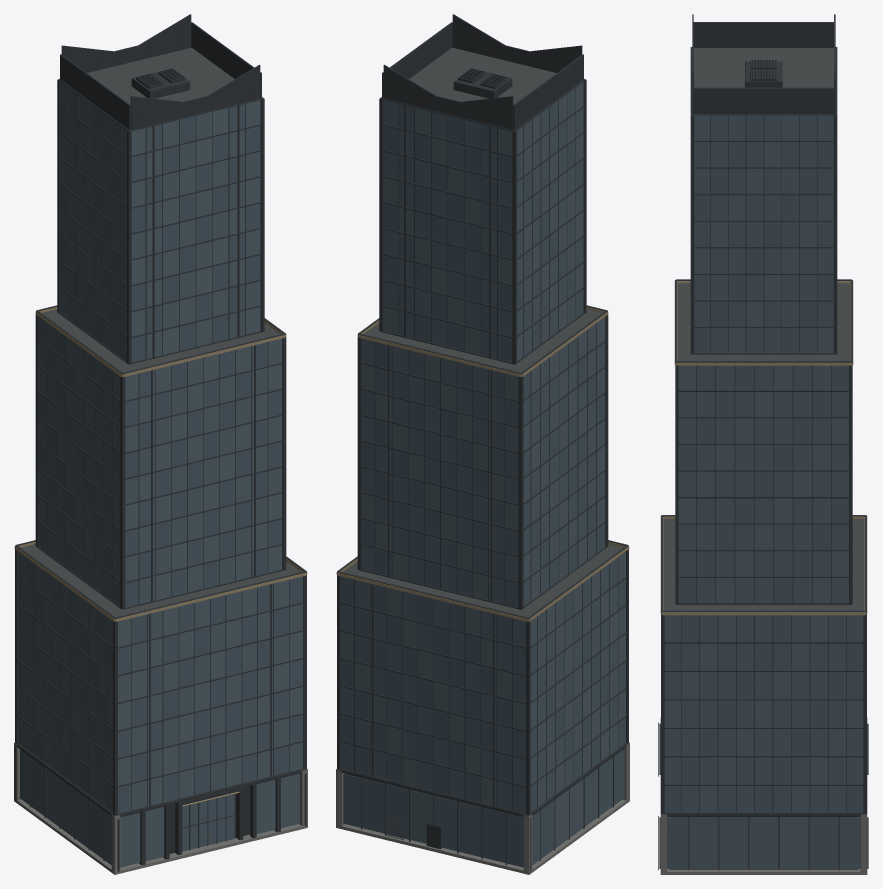
The model's file is skyline_tower.glb.
3 views of the same model, side by side, from view 1: azimuth 30°, elevation 25°; view 2: azimuth 150°, elevation 25°; view 3: azimuth 270°, elevation 25° (orthographic). The views are drawn at different scales.
Visible parts, largest first — view 1: Graphite steel, Coated glazing 2, Coated glazing 1, Coated glazing 0, Coated glazing 3, Coated glazing 4, Roof membrane, Concrete, Warm anodized trim, Interior dark; view 2: Graphite steel, Coated glazing 0, Coated glazing 1, Coated glazing 2, Coated glazing 3, Coated glazing 4, Roof membrane, Concrete, Warm anodized trim; view 3: Graphite steel, Coated glazing 0, Coated glazing 1, Coated glazing 3, Coated glazing 2, Coated glazing 4, Roof membrane, Warm anodized trim, Concrete, Interior dark.
Part boxes in pixels (bbox=[...]): Graphite steel: bbox=[14, 14, 306, 871]; Coated glazing 2: bbox=[18, 101, 303, 867]; Coated glazing 1: bbox=[18, 88, 303, 858]; Coated glazing 0: bbox=[18, 107, 304, 869]; Coated glazing 3: bbox=[18, 82, 303, 837]; Coated glazing 4: bbox=[18, 94, 303, 826]; Roof membrane: bbox=[21, 47, 300, 617]; Concrete: bbox=[14, 742, 307, 874]; Warm anodized trim: bbox=[14, 307, 307, 837]; Interior dark: bbox=[120, 773, 298, 853]; Graphite steel: bbox=[337, 14, 628, 871]; Coated glazing 0: bbox=[340, 101, 625, 867]; Coated glazing 1: bbox=[338, 88, 625, 869]; Coated glazing 2: bbox=[340, 107, 625, 857]; Coated glazing 3: bbox=[340, 94, 625, 851]; Coated glazing 4: bbox=[340, 82, 625, 848]; Roof membrane: bbox=[343, 47, 622, 617]; Concrete: bbox=[336, 742, 629, 874]; Warm anodized trim: bbox=[336, 307, 629, 621]; Graphite steel: bbox=[658, 14, 867, 870]; Coated glazing 0: bbox=[659, 115, 863, 868]; Coated glazing 1: bbox=[664, 115, 868, 868]; Coated glazing 3: bbox=[664, 115, 863, 868]; Coated glazing 2: bbox=[664, 115, 863, 868]; Coated glazing 4: bbox=[664, 115, 863, 868]; Roof membrane: bbox=[663, 48, 864, 610]; Warm anodized trim: bbox=[660, 281, 867, 615]; Concrete: bbox=[660, 814, 867, 874]; Interior dark: bbox=[670, 817, 857, 869].
Bounding box in the file's own units: 24 × 90 × 22.
12 materials, 2 textured.
